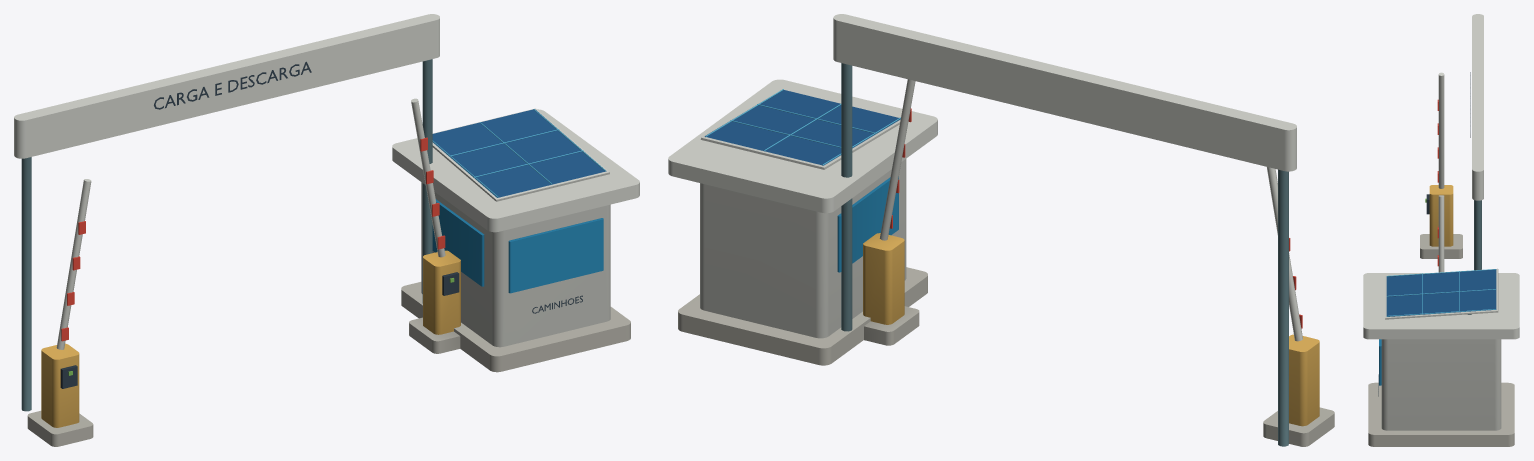
The model's file is industrial-gate.glb.
3 views of the same model, side by side, from view 1: azimuth 30°, elevation 25°; view 2: azimuth 150°, elevation 25°; view 3: azimuth 270°, elevation 25° (orthographic). The views are drawn at different scales.
Parts seen in each view (by area): view 1: guard booth, photovoltaic cells, guard booth base, guard glazing, barrier housing, panel foot, access reader, barrier reflective stripe, solar cell division; view 2: guard booth, guard booth base, photovoltaic cells, barrier housing, panel foot, guard glazing, solar cell division; view 3: guard booth, guard booth base, photovoltaic cells, barrier housing, panel foot, solar cell division, access reader.
Part boxes in pixels (<box>): guard booth: <box>14,14,639,349</box>; photovoltaic cells: <box>432,109,606,197</box>; guard booth base: <box>27,282,630,446</box>; guard glazing: <box>432,199,603,293</box>; barrier housing: <box>41,250,460,427</box>; panel foot: <box>21,59,432,411</box>; access reader: <box>60,61,582,388</box>; barrier reflective stripe: <box>61,137,445,341</box>; solar cell division: <box>432,109,605,197</box>; guard booth: <box>668,14,1302,341</box>; guard booth base: <box>678,267,1334,446</box>; photovoltaic cells: <box>704,90,900,165</box>; barrier housing: <box>863,233,1319,426</box>; panel foot: <box>841,63,1288,446</box>; guard glazing: <box>837,176,898,272</box>; solar cell division: <box>705,89,900,165</box>; guard booth: <box>1363,14,1519,430</box>; guard booth base: <box>1368,234,1514,446</box>; photovoltaic cells: <box>1386,269,1496,316</box>; barrier housing: <box>1429,185,1453,246</box>; panel foot: <box>1467,200,1481,314</box>; solar cell division: <box>1387,269,1495,316</box>; access reader: <box>1378,72,1470,396</box>.
Bounding box in the file's own units: 7.3 × 3.8 × 2.35.
